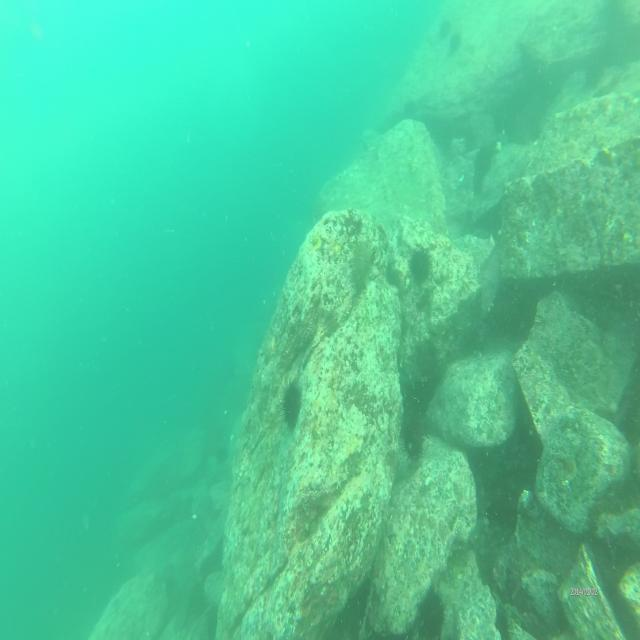echinus: (346, 235, 376, 298), (408, 240, 438, 293), (417, 586, 442, 640), (402, 419, 426, 469), (283, 377, 303, 432), (434, 14, 454, 44), (447, 28, 463, 60)
scallop: (324, 234, 340, 266), (306, 230, 324, 257)
